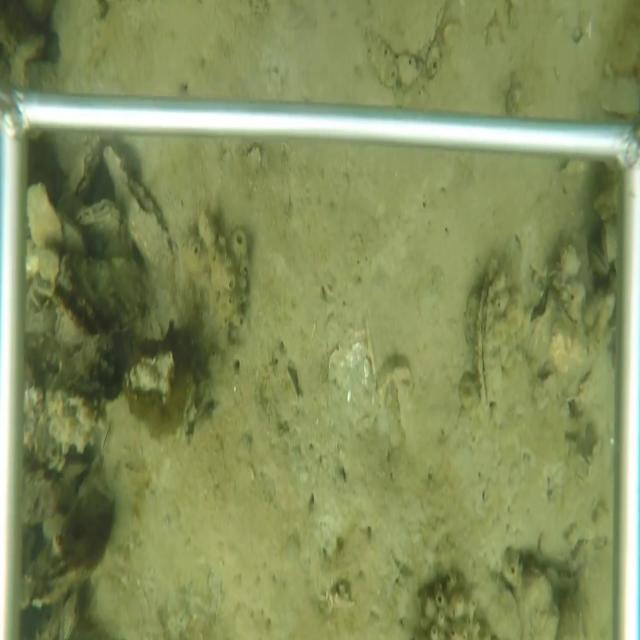Oyster-Closed: (102, 143, 178, 310), (363, 2, 452, 68), (474, 259, 507, 428), (72, 200, 123, 247), (65, 137, 101, 203), (587, 239, 610, 277), (98, 416, 117, 459), (601, 222, 613, 271)
Oyster-Indeterminate: (25, 179, 65, 249)
